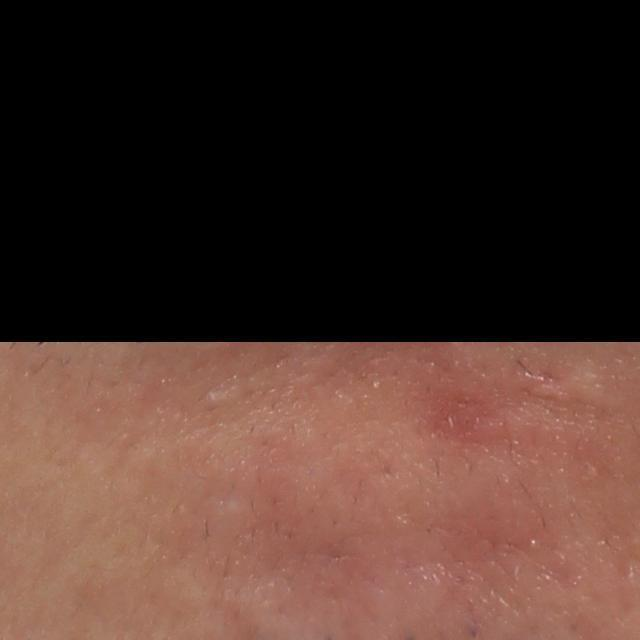hypertrophic_scar: (524, 355, 620, 408)
